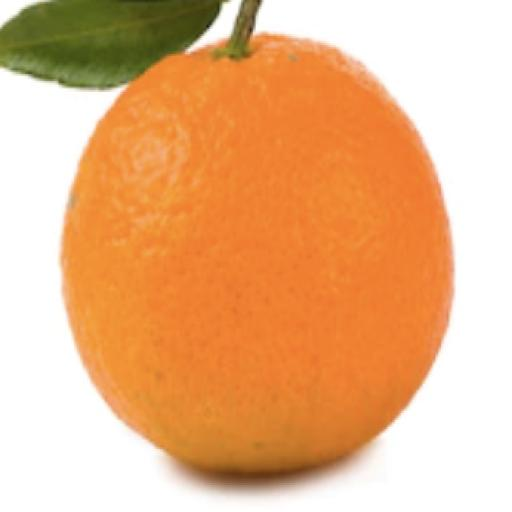orange: (63, 35, 452, 472)
